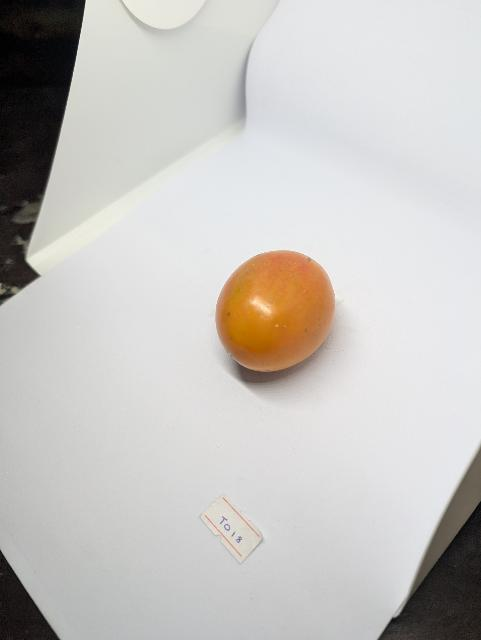turning: (209, 242, 351, 389)
